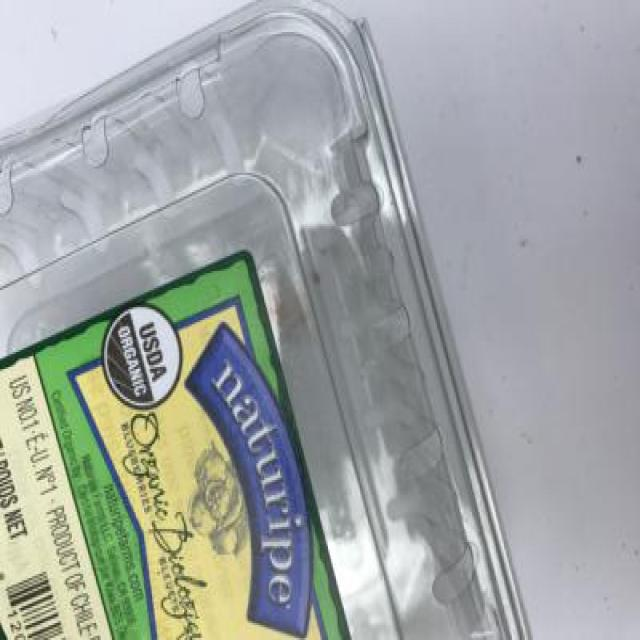plastic: (0, 0, 546, 640)
